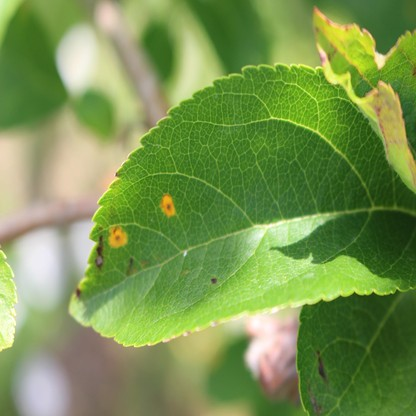rust: (108, 225, 128, 247), (161, 193, 174, 217)
